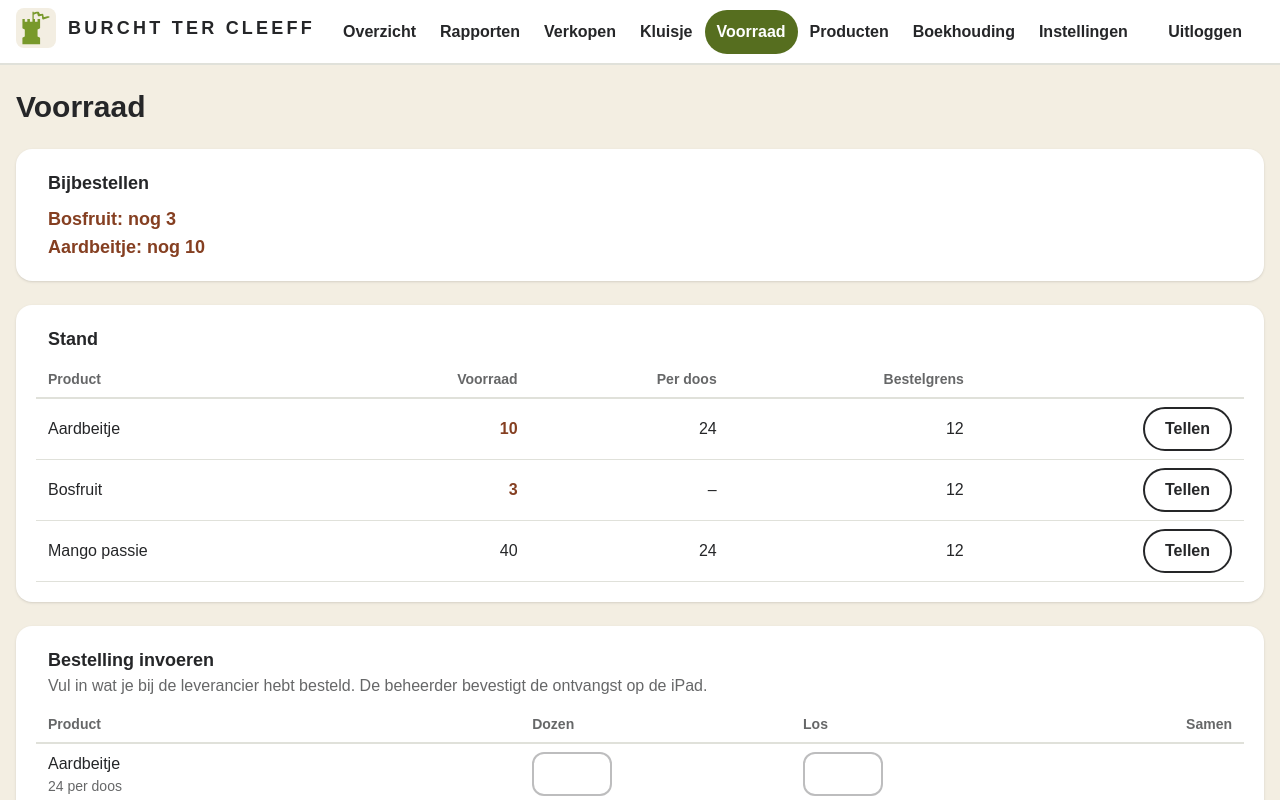
Test: explains the server's refusal when the box size went missing in the meantime
Type "2" into the number field named "Dozen" at point(572, 774), box [532,752,612,796]
(page scrolled)
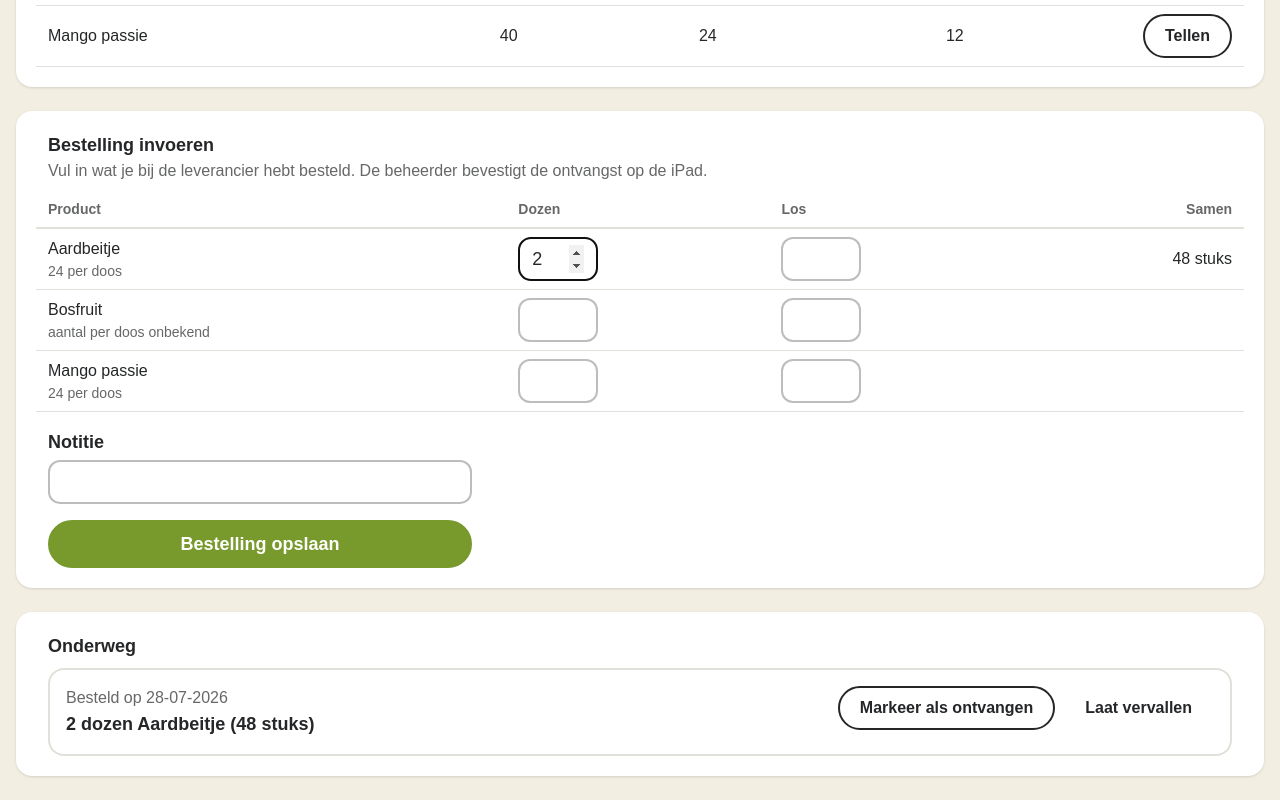
Click the button "Bestelling opslaan" at point(260, 544), box [48,520,472,568]
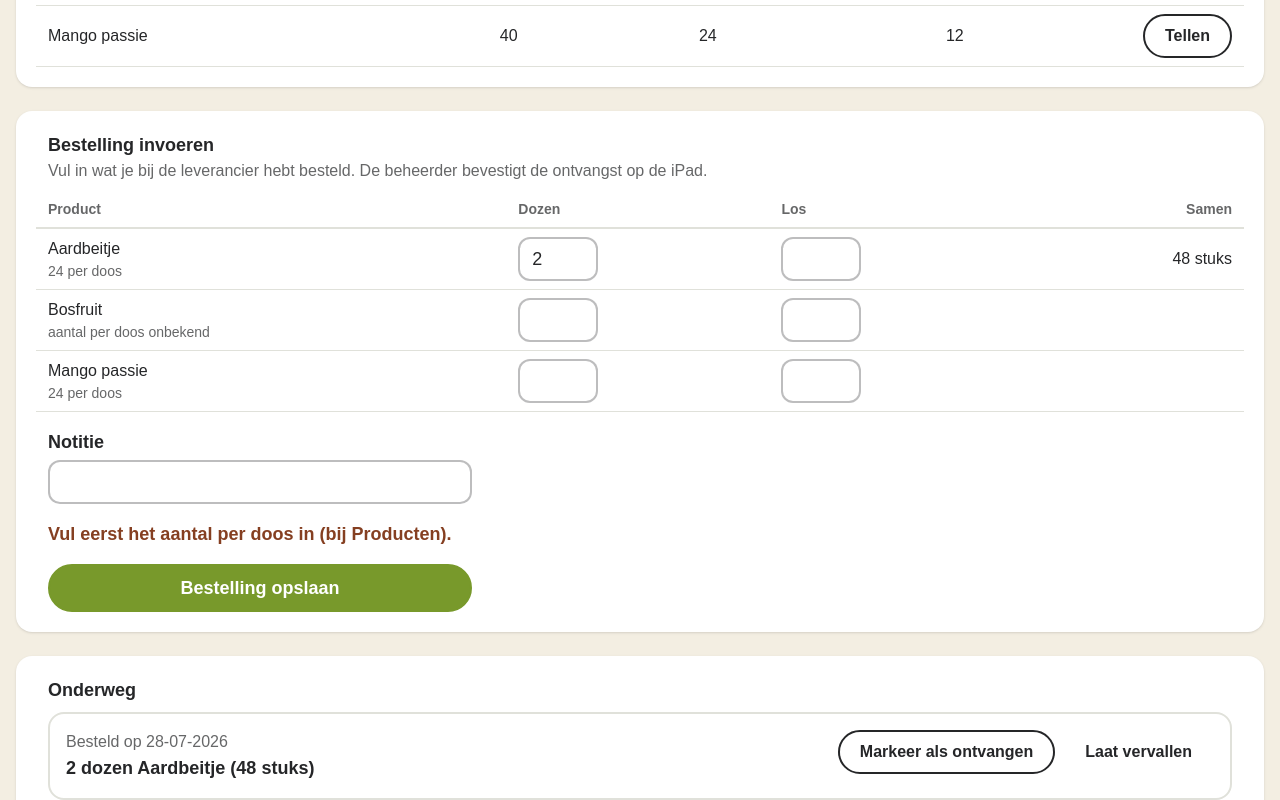
Now the text "Vul eerst het aantal per doos in (bij Producten)." is shown, box [48,520,472,548]
